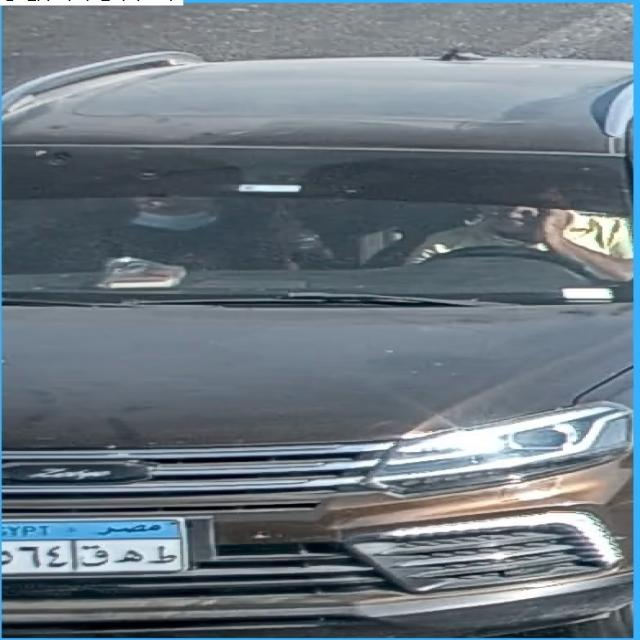windshield: (2, 143, 635, 300)
